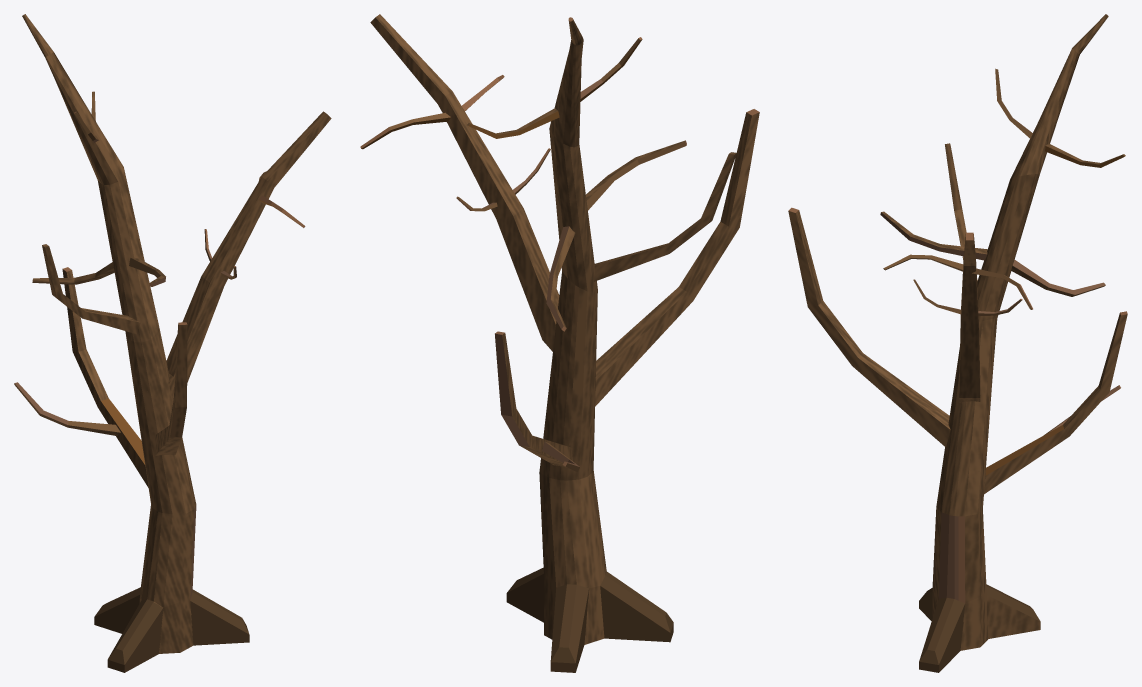
File: _11_tree_Cylinder.002.obj
The picture shows the model from 3 angles, left to right: view 1: azimuth 30°, elevation 25°; view 2: azimuth 150°, elevation 25°; view 3: azimuth 270°, elevation 25°; orthographic projection. The views are drawn at different scales.
Visible parts, largest first — view 1: _11_tree_Cylinder.002; view 2: _11_tree_Cylinder.002; view 3: _11_tree_Cylinder.002.
Boxes of the visible parts, x1,y1,x2,y2 form: _11_tree_Cylinder.002: (14,14,331,672); _11_tree_Cylinder.002: (360,14,759,672); _11_tree_Cylinder.002: (788,14,1127,672).
Size of the model in its own units: 1.09 by 2.06 by 1.07.
Materials: 1 (1 with a texture image).
